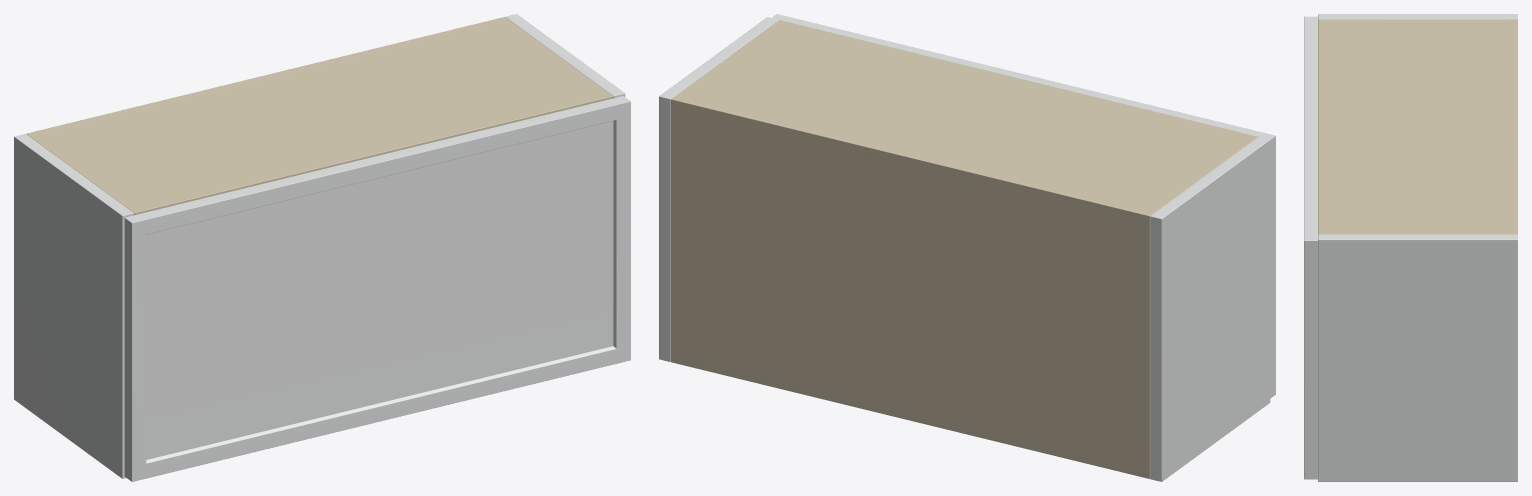
The model's file is oppein-ply-ssw-wsl3015.glb.
The picture shows the model from 3 angles, left to right: view 1: azimuth 30°, elevation 25°; view 2: azimuth 150°, elevation 25°; view 3: azimuth 270°, elevation 25°; orthographic projection. The views are drawn at different scales.
Parts seen in each view (by area): view 1: Door, Cabinet top, Cabinet side, Cabinet back, Cabinet side.001; view 2: Cabinet back, Cabinet top, Cabinet side, Cabinet bottom, Door, Cabinet side.001; view 3: Cabinet side.001, Cabinet top, Door, Cabinet back, Cabinet side.
Part boxes in pixels (x1,y1,x2,y2): Door: (124, 96, 630, 481); Cabinet top: (26, 17, 613, 215); Cabinet side: (14, 134, 133, 478); Cabinet back: (26, 17, 507, 136); Cabinet side.001: (505, 14, 625, 98); Cabinet back: (671, 96, 1153, 478); Cabinet top: (671, 20, 1257, 227); Cabinet side: (1150, 137, 1270, 481); Cabinet bottom: (671, 350, 1149, 478); Door: (772, 14, 1275, 398); Cabinet side.001: (659, 17, 778, 361); Cabinet side.001: (1318, 234, 1517, 481); Cabinet top: (1318, 19, 1517, 234); Door: (1304, 16, 1317, 479); Cabinet back: (1510, 19, 1517, 234); Cabinet side: (1318, 14, 1517, 19).
Bounding box in the file's own units: 0.762 × 0.381 × 0.3048.
